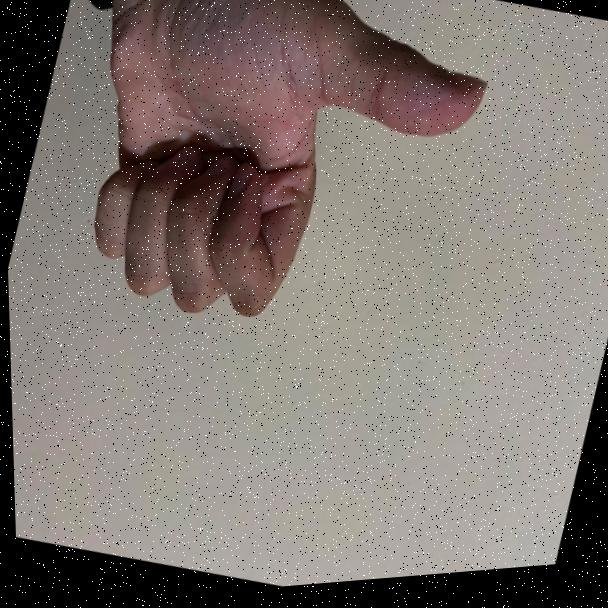five: (59, 0, 508, 384)
